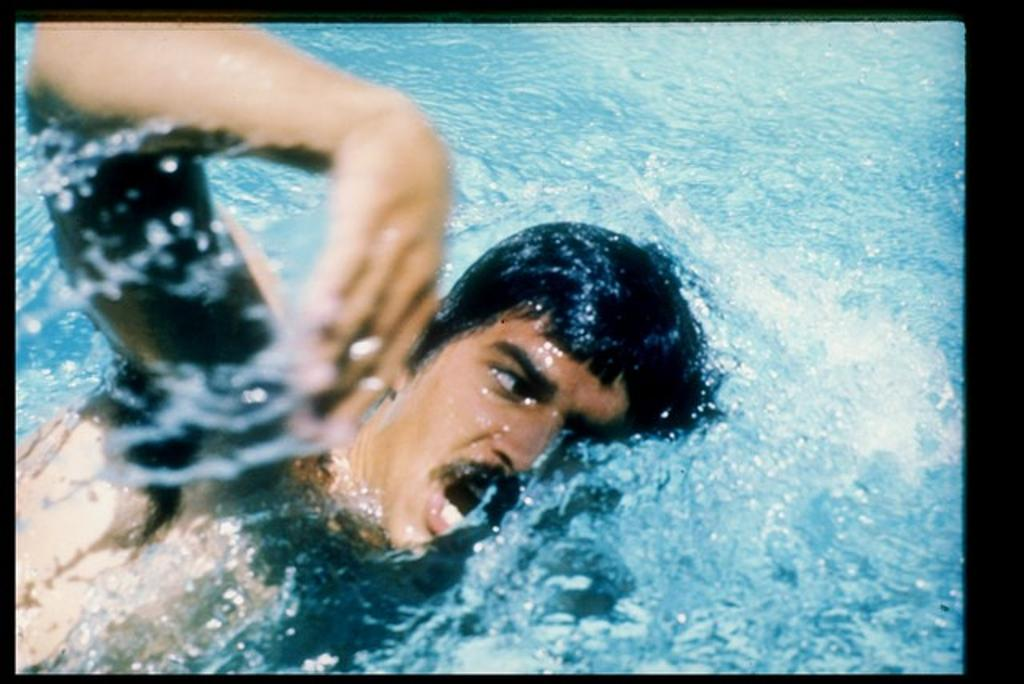face: (368, 324, 628, 556)
